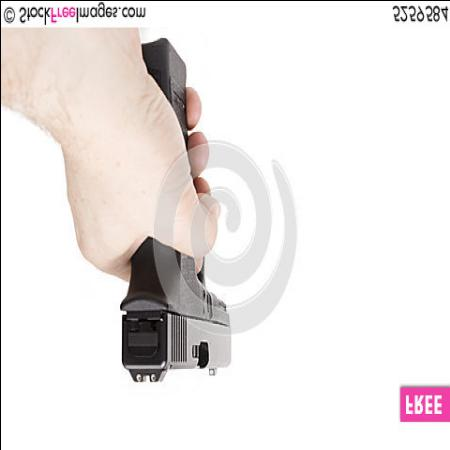Pistol: (116, 36, 230, 390)
